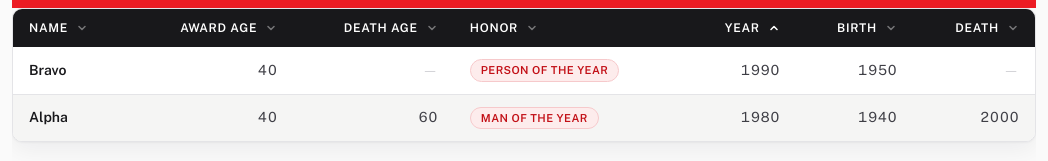
it: clicking a column header sorts and sets aria-sort
Expected: the link "Bravo" is shown, [29,62,66,79]
Click the button "Name" at (71, 28), box [13,9,129,47]
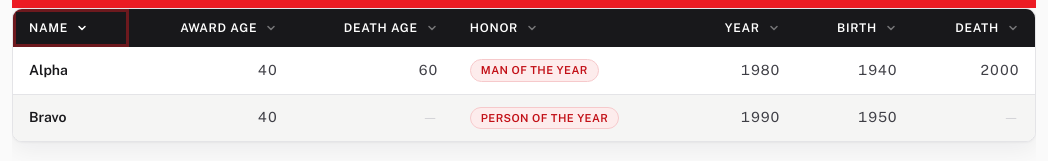
Result: the link "Alpha" is shown at [29,62,68,79]
